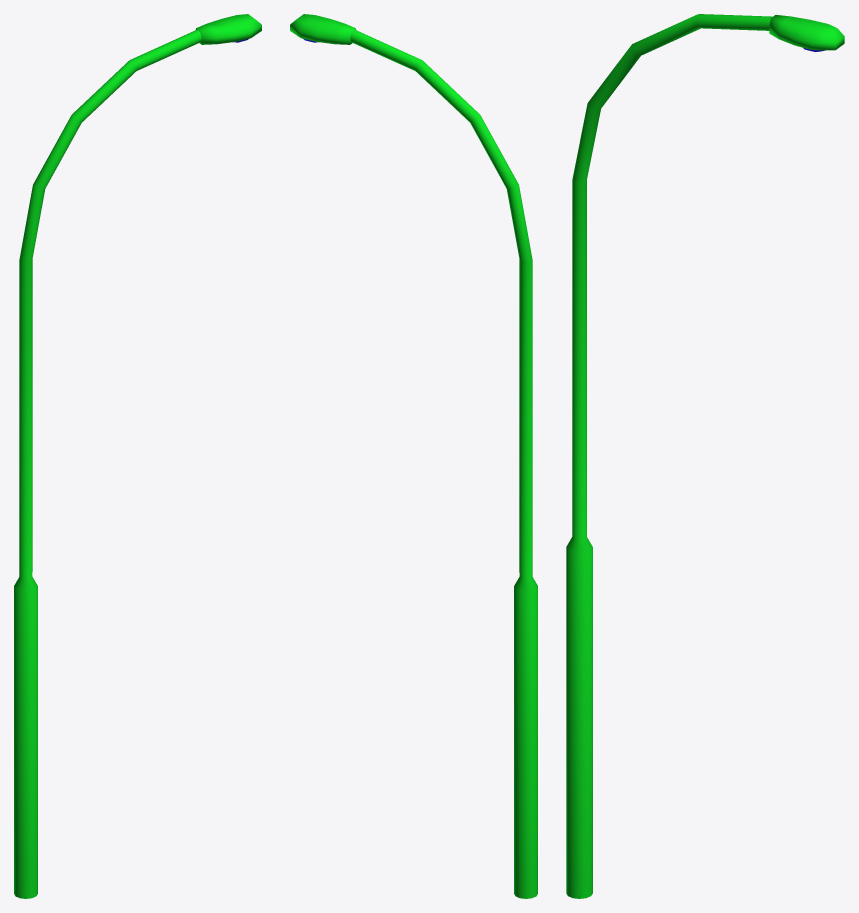
File: Lantaarn.fbx
The picture shows the model from 3 angles, left to right: view 1: azimuth 30°, elevation 25°; view 2: azimuth 150°, elevation 25°; view 3: azimuth 330°, elevation 25°; orthographic projection. The views are drawn at different scales.
Visible parts, largest first — view 1: Cylinder; view 2: Cylinder; view 3: Cylinder.
Boxes of the visible parts, x1,y1,x2,y2 form: Cylinder: (14,14,261,898); Cylinder: (290,14,537,898); Cylinder: (566,14,844,898).
Size of the model in its own units: 246 by 797 by 31.68.
